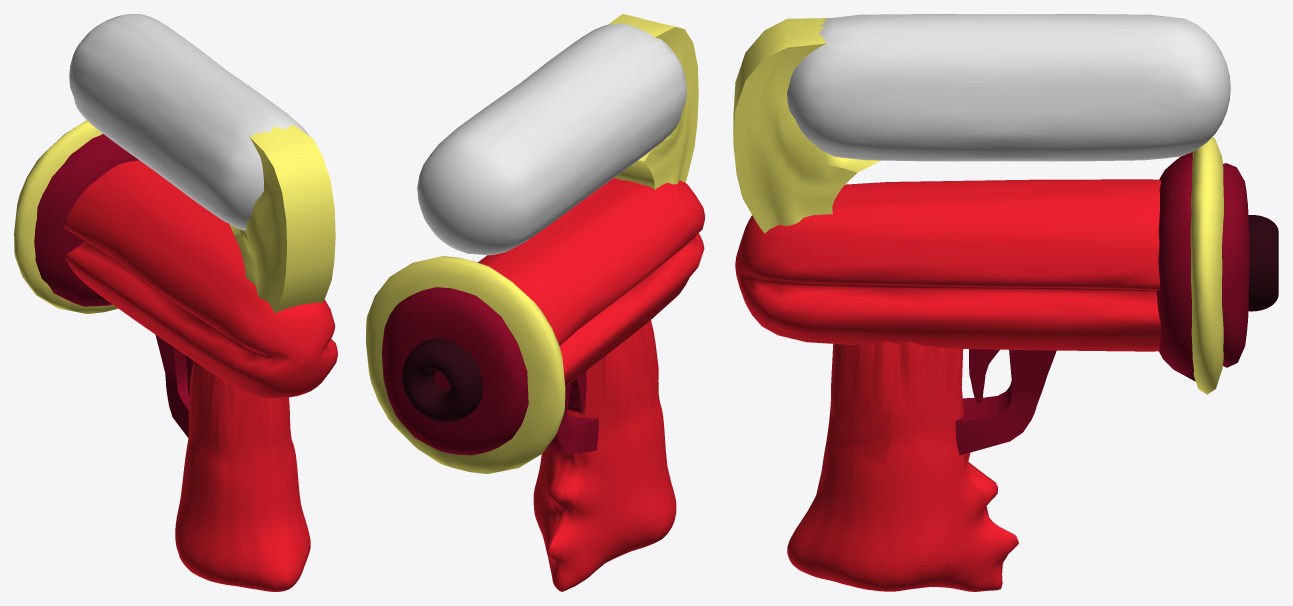
The model's file is Projectile_SINGLE.fbx.
3 views of the same model, side by side, from view 1: azimuth 30°, elevation 25°; view 2: azimuth 150°, elevation 25°; view 3: azimuth 270°, elevation 25° (orthographic). The views are drawn at different scales.
Visible parts, largest first — view 1: Body, Glass, Handle, Attachment 2, InnerLining, HandleAttachment; view 2: Glass, InnerLining, Body, Handle, Attachment 2, LittleNip, HandleAttachment, Trigger; view 3: Body, Glass, Handle, InnerLining, Attachment 2, HandleAttachment, LittleNip, Trigger.
Boxes of the visible parts, <box> form: Body: <box>64,160,337,398</box>; Glass: <box>69,14,310,230</box>; Handle: <box>175,361,310,591</box>; Attachment 2: <box>229,125,335,313</box>; InnerLining: <box>14,120,139,313</box>; HandleAttachment: <box>155,335,188,437</box>; Glass: <box>417,23,686,255</box>; InnerLining: <box>366,256,565,473</box>; Body: <box>478,178,704,386</box>; Handle: <box>533,320,676,591</box>; Attachment 2: <box>608,14,698,189</box>; LittleNip: <box>402,338,482,422</box>; HandleAttachment: <box>547,382,598,454</box>; Trigger: <box>567,371,586,413</box>; Body: <box>735,179,1160,351</box>; Glass: <box>787,14,1230,161</box>; Handle: <box>787,341,1018,591</box>; InnerLining: <box>1156,137,1249,394</box>; Attachment 2: <box>733,18,881,233</box>; HandleAttachment: <box>955,350,1056,455</box>; LittleNip: <box>1248,215,1278,311</box>; Trigger: <box>969,349,999,403</box>.
Size of the model in its own units: 17.53 by 42.75 by 36.84.
